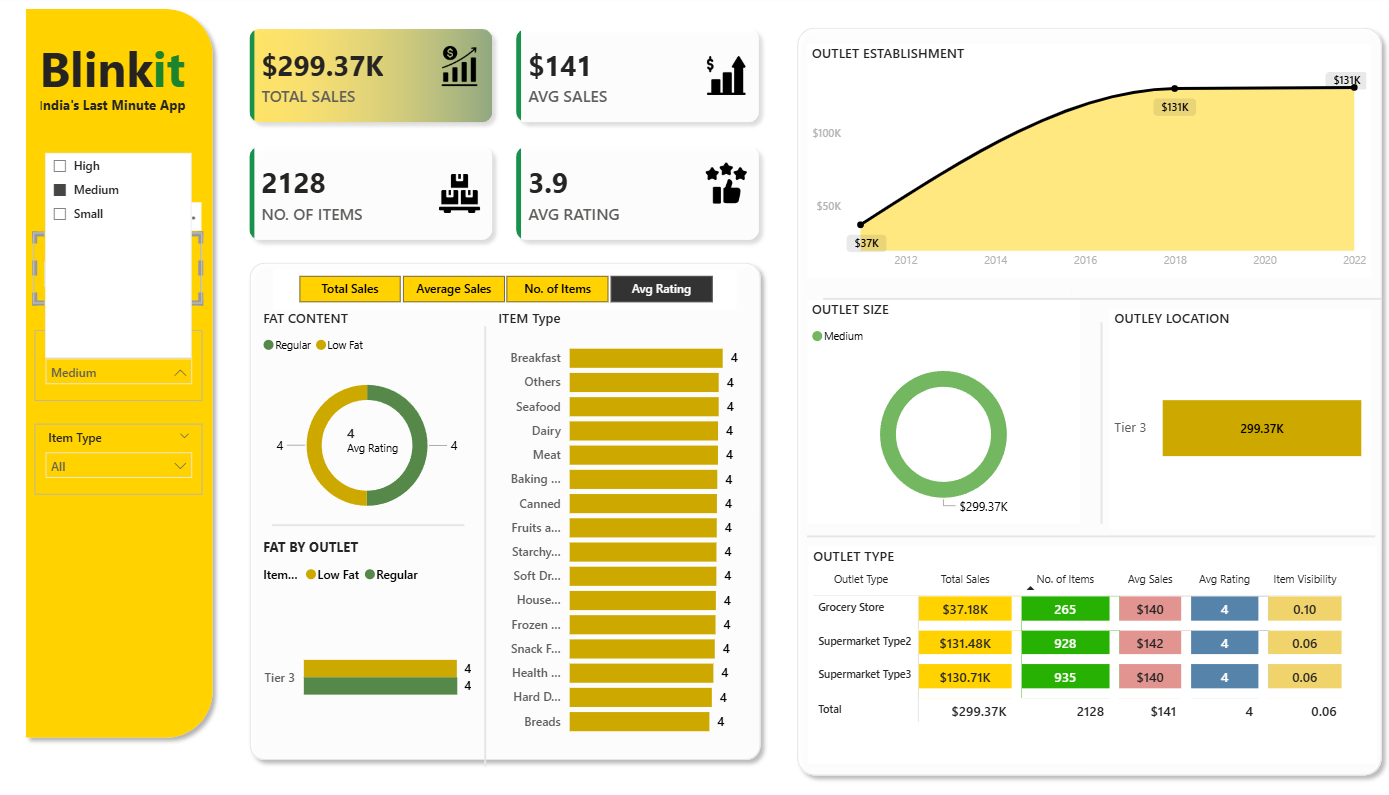

What the dashboard file says about the page in this screenshot:
{"tool":"powerbi","page":{"name":"Page 1","canvas":[1400,800],"ordinal":0},"visuals":[{"type":"shape","box":[19.5,0,205.6,750.4],"z":0},{"type":"textbox","box":[37.5,30,169.6,78],"z":1000},{"type":"textbox","box":[37.5,91.6,169.6,30],"z":2000},{"type":"cardVisual","fields":{"Data":["BlinkIT Grocery Data.Total Sales","BlinkIT Grocery Data.Average Sales","BlinkIT Grocery Data.No. of Items","BlinkIT Grocery Data.Avg Rating"]},"box":[225.1,0,570.3,270.2],"z":3000},{"type":"shape","box":[244.6,255.1,531.3,517.8],"z":4000},{"type":"donutChart","title":"FAT CONTENT","fields":{"Y":["BlinkIT Grocery Data.Total Sales"],"Category":["BlinkIT Grocery Data.Item Fat Content"]},"box":[262.7,310.7,219.1,229.6],"z":5000},{"type":"slicer","fields":{"Values":["Metrics.Metrics"]},"box":[277.7,270.2,465.3,40.5],"z":6000},{"type":"cardVisual","fields":{"Data":["BlinkIT Grocery Data.Total Sales"]},"box":[322.7,400.7,120.1,81],"z":7000},{"type":"clusteredBarChart","title":"FAT BY OUTLET","fields":{"Y":["BlinkIT Grocery Data.Total Sales"],"Category":["BlinkIT Grocery Data.Outlet Location Type"],"Series":["BlinkIT Grocery Data.Item Fat Content"]},"box":[262.7,540.3,219.1,229.6],"z":8000},{"type":"shape","box":[276,515.1,193.3,25.4],"z":9000},{"type":"shape","box":[1072.1,290,16.5,225.1],"z":10000},{"type":"barChart","title":"ITEM Type","fields":{"Y":["BlinkIT Grocery Data.Total Sales"],"Category":["BlinkIT Grocery Data.Item Type"]},"box":[498.3,310.7,255.1,439.8],"z":11000},{"type":"shape","box":[794.9,19.1,605.4,769.4],"z":12000},{"type":"lineChart","title":"OUTLET ESTABLISHMENT","fields":{"Y":["BlinkIT Grocery Data.Total Sales"],"Category":["BlinkIT Grocery Data.Outlet Establishment Year"]},"box":[814,44.5,567.2,235.3],"z":13000},{"type":"shape","box":[814,527.8,571,22.9],"z":14000},{"type":"donutChart","title":"OUTLET SIZE","fields":{"Y":["BlinkIT Grocery Data.Total Sales"],"Category":["BlinkIT Grocery Data.Outlet Size"]},"box":[814,301.4,274.7,225.1],"z":15000},{"type":"shape","box":[1100.1,324.3,19.1,202.2],"z":16000},{"type":"shape","box":[482,328.1,16.5,442.6],"z":17000},{"type":"funnel","title":"OUTLEY LOCATION","fields":{"Y":["Sum(BlinkIT Grocery Data.Sales)"],"Category":["BlinkIT Grocery Data.Outlet Location Type"]},"box":[1117.9,310.3,263.3,221.3],"z":18000},{"type":"shape","box":[830.3,288.5,560.9,22.9],"z":19000},{"type":"pivotTable","title":"OUTLET TYPE","fields":{"Values":["BlinkIT Grocery Data.Total Sales","BlinkIT Grocery Data.No. of Items","BlinkIT Grocery Data.Average Sales","BlinkIT Grocery Data.Avg Rating","Avg(BlinkIT Grocery Data.Item Visibility)"],"Rows":["BlinkIT Grocery Data.Outlet Type"]},"box":[815.2,549.4,571,218.8],"z":20000},{"type":"slicer","fields":{"Values":["BlinkIT Grocery Data.Outlet Location Type"]},"box":[36.9,234,169.2,71.2],"z":21000},{"type":"slicer","fields":{"Values":["BlinkIT Grocery Data.Outlet Size"]},"box":[38.2,331.9,169.2,71.2],"z":22000},{"type":"slicer","fields":{"Values":["BlinkIT Grocery Data.Item Type"]},"box":[38.2,426.1,169.2,71.2],"z":23000},{"type":"textbox","box":[68.7,199.7,106.8,34.3],"z":24000}]}

Visuals, with their boxes in screenshot pixels (x1, y1, x2, y2), scaled from the page's 1400x800 canvas onto the 1389x795 screenshot:
shape: 19/0/223/746
textbox: 37/30/205/107
textbox: 37/91/205/121
cardVisual - BlinkIT Grocery Data.Total Sales x BlinkIT Grocery Data.Average Sales: 223/0/789/269
shape: 243/254/770/768
"FAT CONTENT" donutChart: 261/309/478/537
slicer - Metrics.Metrics: 276/269/737/309
cardVisual - BlinkIT Grocery Data.Total Sales: 320/398/439/479
"FAT BY OUTLET" clusteredBarChart: 261/537/478/765
shape: 274/512/466/537
shape: 1064/288/1080/512
"ITEM Type" barChart: 494/309/747/746
shape: 789/19/1388/784
"OUTLET ESTABLISHMENT" lineChart: 808/44/1370/278
shape: 808/525/1374/547
"OUTLET SIZE" donutChart: 808/300/1080/523
shape: 1091/322/1110/523
shape: 478/326/495/766
"OUTLEY LOCATION" funnel: 1109/308/1370/528
shape: 824/287/1380/309
"OUTLET TYPE" pivotTable: 809/546/1375/763
slicer - BlinkIT Grocery Data.Outlet Location Type: 37/233/204/303
slicer - BlinkIT Grocery Data.Outlet Size: 38/330/206/401
slicer - BlinkIT Grocery Data.Item Type: 38/423/206/494
textbox: 68/198/174/233
